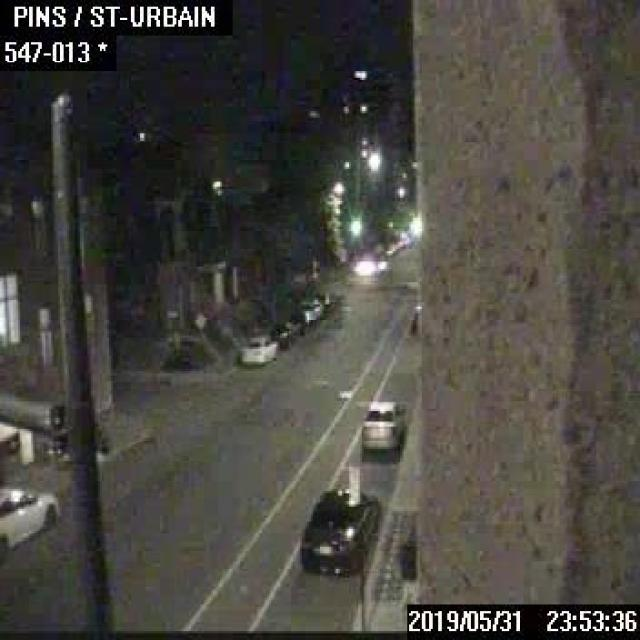vehicle: (296, 487, 380, 571), (0, 482, 60, 558), (360, 398, 402, 451), (240, 333, 277, 365), (268, 318, 294, 347), (286, 310, 315, 335), (299, 296, 321, 321), (406, 304, 419, 336), (315, 291, 334, 310)
